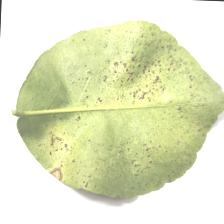canker: (104, 41, 174, 100)
